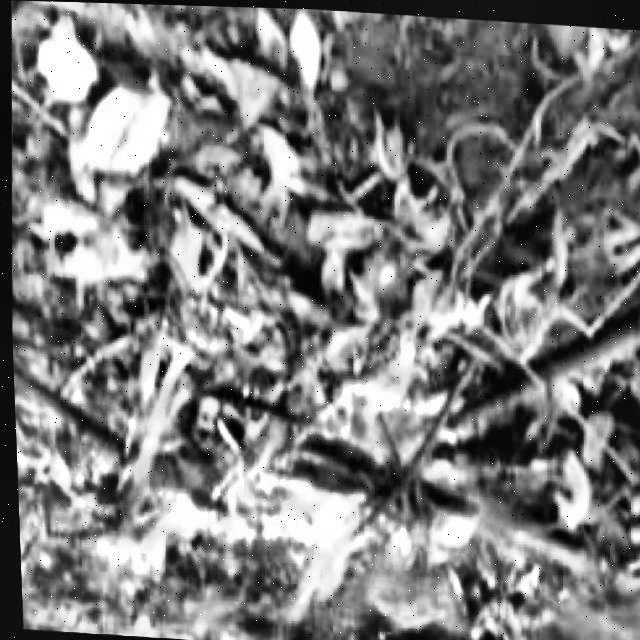Smoke: (88, 340, 436, 633)
